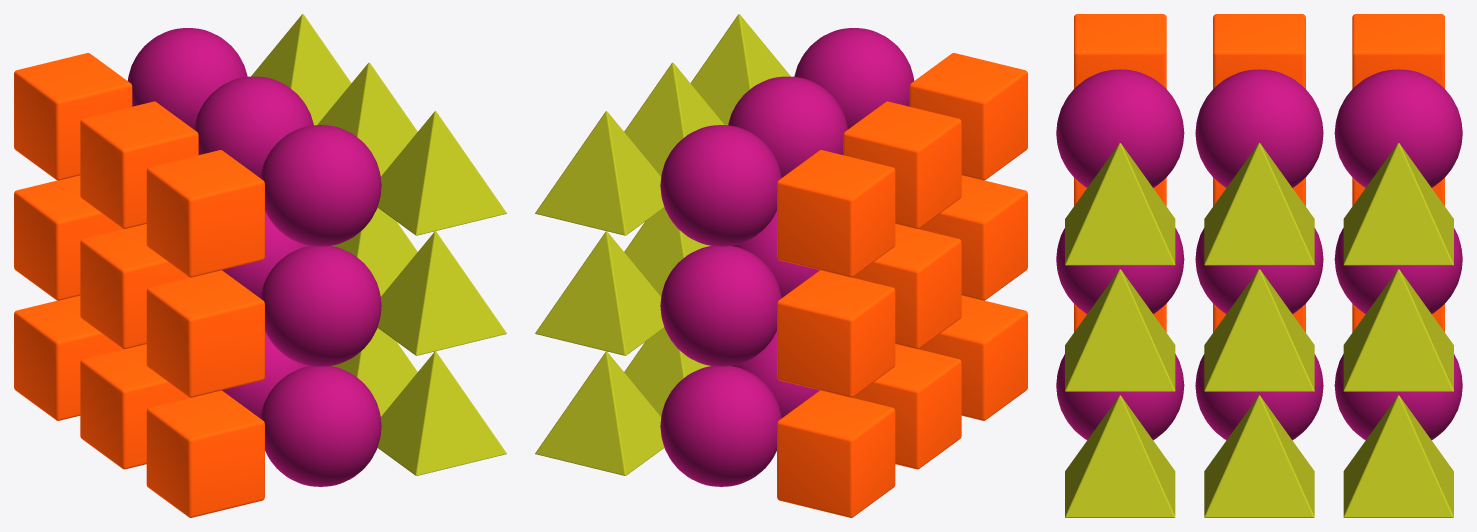
The model's file is shape_animation.dae.
The picture shows the model from 3 angles, left to right: view 1: azimuth 30°, elevation 25°; view 2: azimuth 150°, elevation 25°; view 3: azimuth 270°, elevation 25°; orthographic projection. The views are drawn at different scales.
Visible parts, largest first — view 1: Cube_6, Cube_0, Cube_3, Sphere_7, Sphere_1, Sphere_4, Cube_15, Cube_24, Pyramid_8, Pyramid_2, Pyramid_5, Cube_9 (+11 smaller); view 2: Cube_24, Cube_18, Cube_21, Sphere_25, Sphere_19, Sphere_22, Cube_15, Cube_6, Pyramid_26, Pyramid_20, Pyramid_23, Cube_9 (+11 smaller); view 3: Sphere_7, Sphere_25, Sphere_16, Pyramid_17, Pyramid_8, Pyramid_26, Pyramid_14, Pyramid_5, Pyramid_23, Pyramid_2, Pyramid_20, Pyramid_11 (+9 smaller).
Boxes of the visible parts, x1=… form: Cube_6: x1=146, y1=150, x2=264, y2=277; Cube_0: x1=146, y1=390, x2=264, y2=517; Cube_3: x1=146, y1=270, x2=264, y2=397; Sphere_7: x1=260, y1=125, x2=381, y2=246; Sphere_1: x1=260, y1=366, x2=381, y2=486; Sphere_4: x1=260, y1=246, x2=381, y2=366; Cube_15: x1=80, y1=101, x2=198, y2=228; Cube_24: x1=14, y1=53, x2=132, y2=180; Pyramid_8: x1=377, y1=111, x2=506, y2=235; Pyramid_2: x1=377, y1=351, x2=506, y2=475; Pyramid_5: x1=377, y1=231, x2=506, y2=355; Cube_9: x1=80, y1=344, x2=189, y2=469; Cube_24: x1=777, y1=150, x2=895, y2=277; Cube_18: x1=777, y1=390, x2=895, y2=517; Cube_21: x1=777, y1=270, x2=895, y2=397; Sphere_25: x1=660, y1=125, x2=781, y2=246; Sphere_19: x1=660, y1=366, x2=781, y2=486; Sphere_22: x1=660, y1=246, x2=781, y2=366; Cube_15: x1=843, y1=101, x2=961, y2=228; Cube_6: x1=909, y1=53, x2=1027, y2=180; Pyramid_26: x1=535, y1=111, x2=664, y2=235; Pyramid_20: x1=535, y1=351, x2=664, y2=475; Pyramid_23: x1=535, y1=231, x2=664, y2=355; Cube_9: x1=852, y1=344, x2=961, y2=469; Sphere_7: x1=1056, y1=69, x2=1184, y2=187; Sphere_25: x1=1334, y1=69, x2=1462, y2=187; Sphere_16: x1=1195, y1=69, x2=1323, y2=187; Pyramid_17: x1=1204, y1=143, x2=1314, y2=265; Pyramid_8: x1=1065, y1=143, x2=1175, y2=265; Pyramid_26: x1=1343, y1=143, x2=1453, y2=265; Pyramid_14: x1=1204, y1=269, x2=1314, y2=391; Pyramid_5: x1=1065, y1=269, x2=1175, y2=391; Pyramid_23: x1=1343, y1=269, x2=1453, y2=391; Pyramid_2: x1=1065, y1=395, x2=1175, y2=517; Pyramid_20: x1=1343, y1=395, x2=1453, y2=517; Pyramid_11: x1=1204, y1=395, x2=1314, y2=517.
Bounding box in the file's own units: 409 × 438 × 438.
